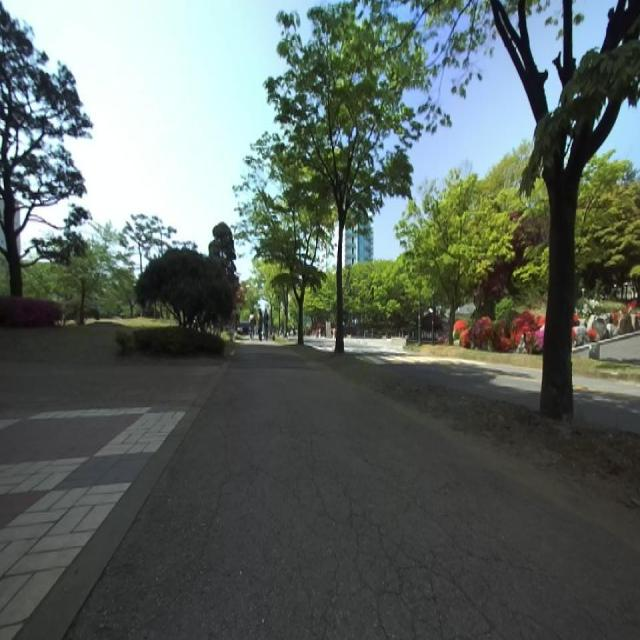sidewalk: (64, 345, 640, 640), (0, 361, 227, 639), (14, 362, 226, 640)
